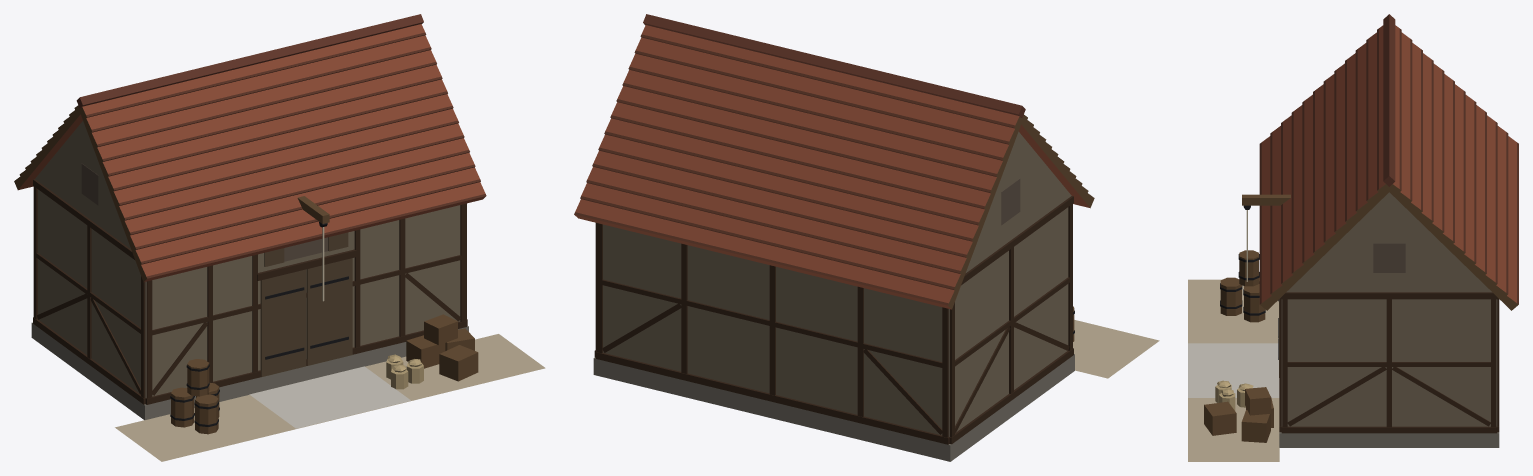
File: wasser_schuppen.glb
3 views of the same model, side by side, from view 1: azimuth 30°, elevation 25°; view 2: azimuth 150°, elevation 25°; view 3: azimuth 270°, elevation 25° (orthographic). The views are drawn at different scales.
Visible parts, largest first — view 1: Haus; view 2: Haus; view 3: Haus.
Boxes of the visible parts, x1,y1,x2,y2 form: Haus: [14, 14, 545, 461]; Haus: [574, 14, 1159, 461]; Haus: [1188, 14, 1518, 461].
Bounding box in the file's own units: 12 × 8.48 × 9.2.
